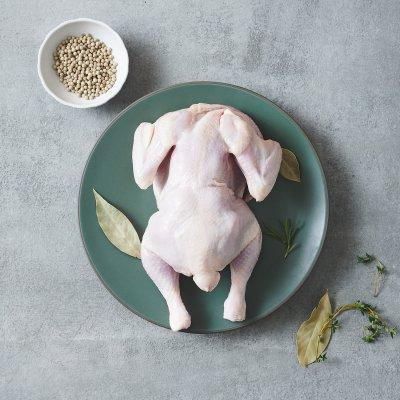chicken: (81, 63, 177, 211)
